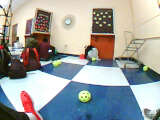Ball: (78, 89, 92, 103), (51, 60, 60, 68), (141, 66, 149, 71)
